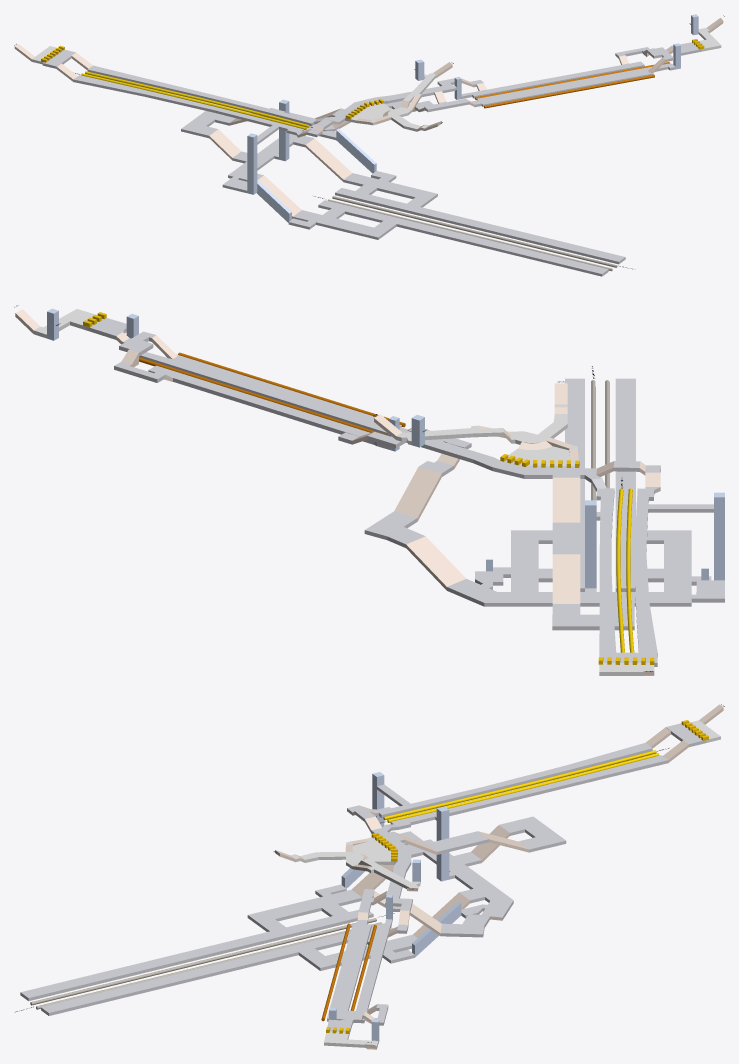
The model's file is arguelles.glb.
3 renders of one model, top to bottom at view 1: azimuth 30°, elevation 25°; view 2: azimuth 150°, elevation 25°; view 3: azimuth 270°, elevation 25°, orthographic. The views are drawn at different scales.
Visible parts, largest first — view 1: rect13833, path11222, path11233, path2636, rect13853, path2628, rect13917, path2634, rect13876, rect13839, rect11154, rect11248 (+4 smaller); view 2: rect13833, path11222, rect13853, path11233, rect13917, path2634, path2628, rect13876, rect13882, rect13894, rect13902, rect13888 (+10 smaller); view 3: rect13833, path11222, rect13853, path2636, path2628, path11233, rect13876, rect13917, rect11176, rect13896, rect13890, path2634 (+5 smaller).
Part boxes in pixels (x1,y1,x2,y2): rect13833: [288, 171, 625, 276]; path11222: [73, 65, 462, 144]; path11233: [471, 63, 675, 107]; path2636: [328, 196, 617, 271]; rect13853: [222, 124, 336, 192]; path2628: [81, 71, 309, 129]; rect13917: [461, 61, 644, 98]; path2634: [475, 62, 669, 108]; rect13876: [181, 111, 235, 138]; rect13839: [305, 138, 351, 181]; rect11154: [247, 133, 257, 194]; rect11248: [336, 128, 376, 173]; rect13833: [493, 378, 711, 594]; path11222: [367, 429, 713, 652]; rect13853: [447, 571, 724, 606]; path11233: [139, 352, 407, 435]; rect13917: [148, 365, 388, 449]; path2634: [139, 352, 405, 434]; path2628: [616, 488, 634, 652]; rect13876: [552, 604, 634, 630]; rect13882: [552, 554, 580, 603]; rect13894: [406, 536, 466, 590]; rect13902: [394, 467, 441, 520]; rect13888: [552, 477, 580, 522]; rect13833: [20, 884, 417, 1015]; path11222: [371, 742, 668, 913]; rect13853: [400, 831, 513, 920]; path2636: [30, 918, 382, 1009]; path2628: [383, 750, 659, 822]; path11233: [327, 920, 371, 1021]; rect13876: [499, 816, 566, 852]; rect13917: [354, 919, 392, 1023]; rect11176: [436, 806, 449, 881]; rect13896: [440, 914, 490, 937]; rect13890: [426, 831, 488, 854]; path2634: [321, 923, 376, 1021].
Bounding box in the file's own units: 232 × 40 × 208.
